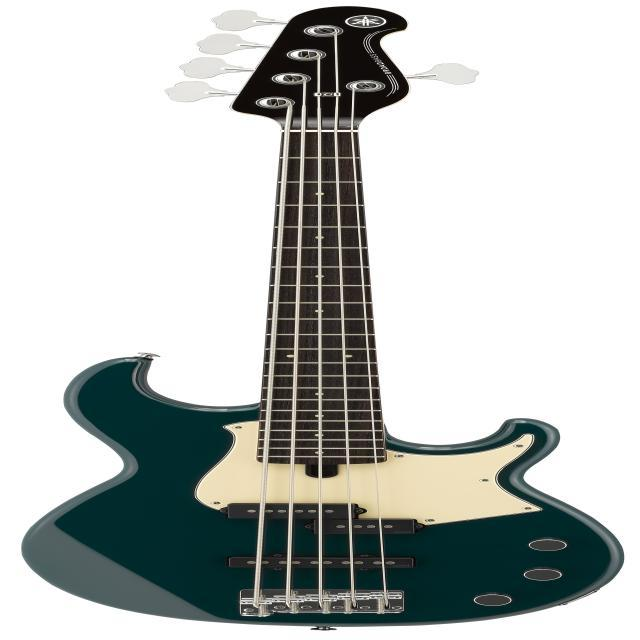bass: (23, 7, 621, 627)
